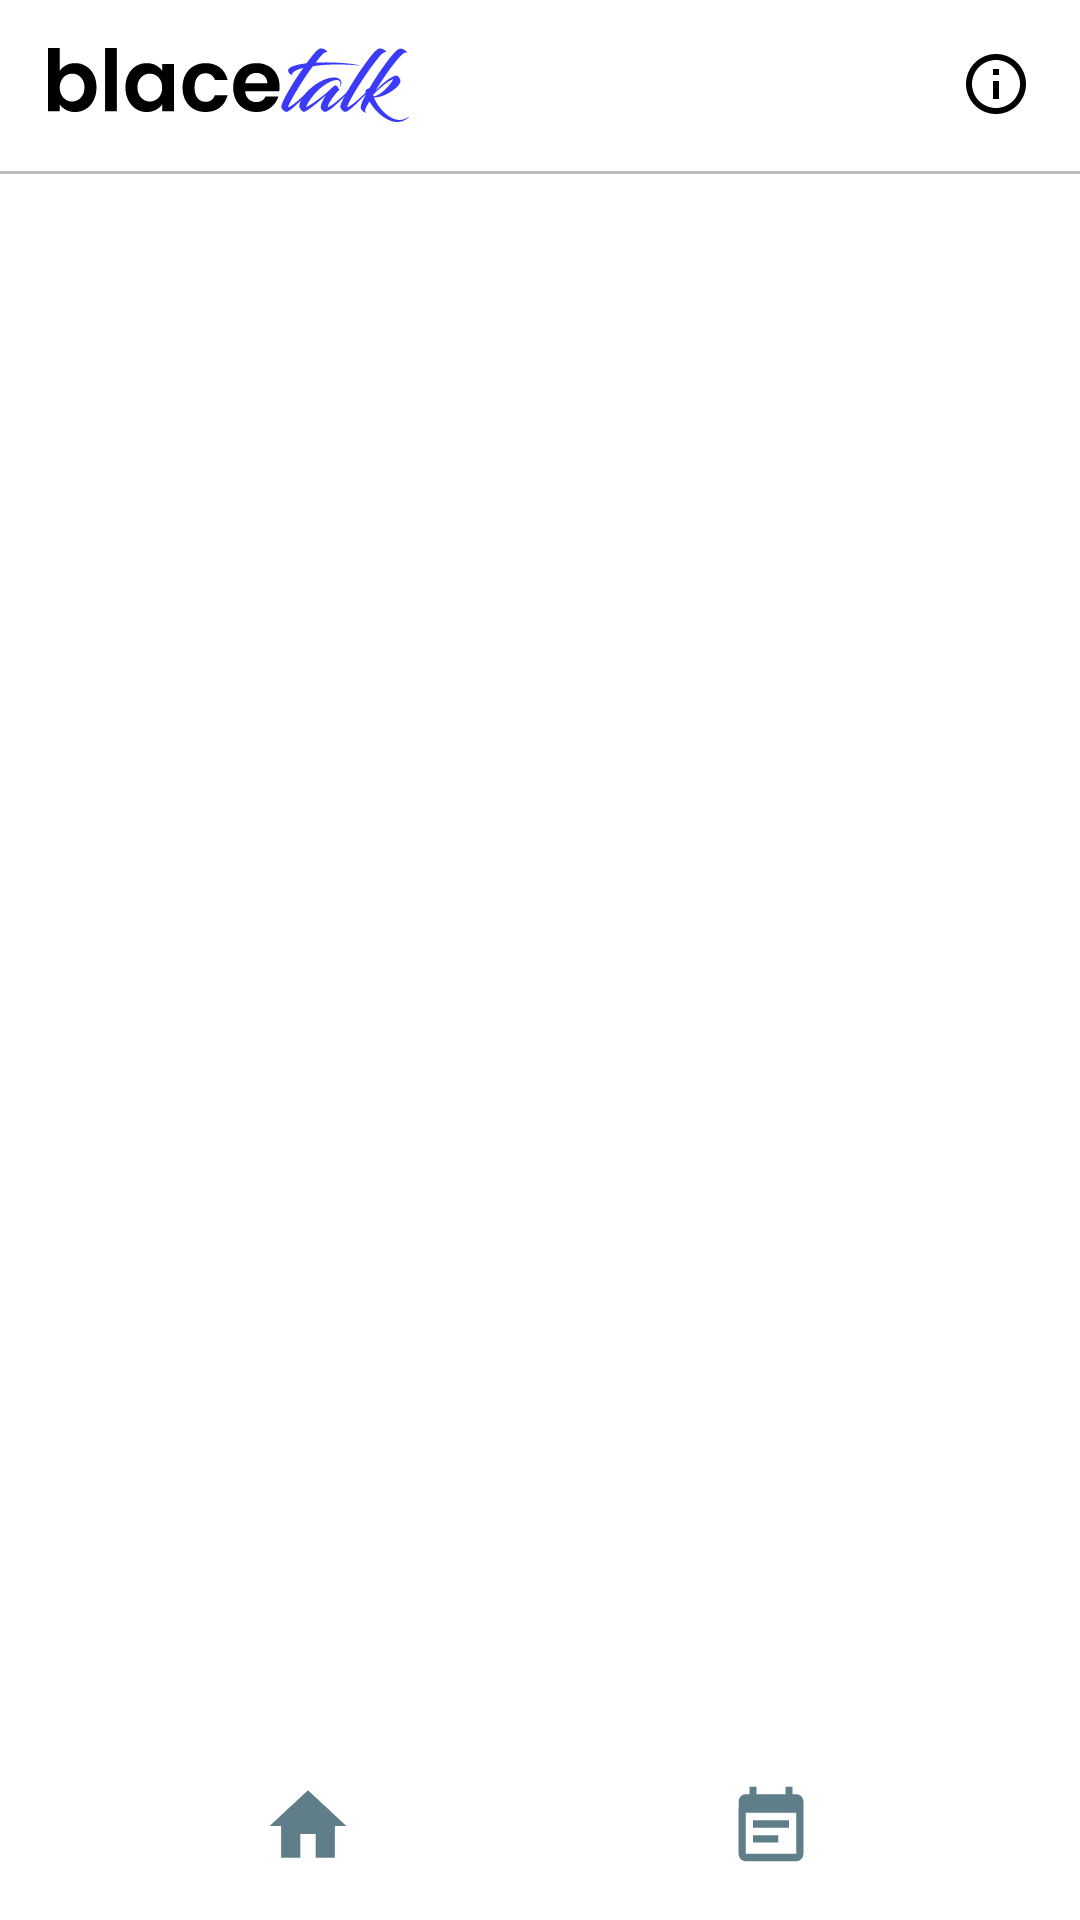

Where to tap for icons on this 1080 x 1920 app screen, as point (x, y):
info: point (996, 84)
